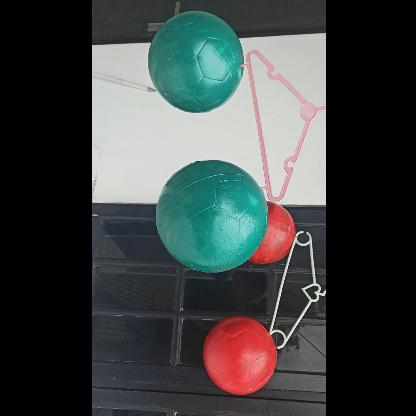red_ball: (203, 320, 277, 394)
